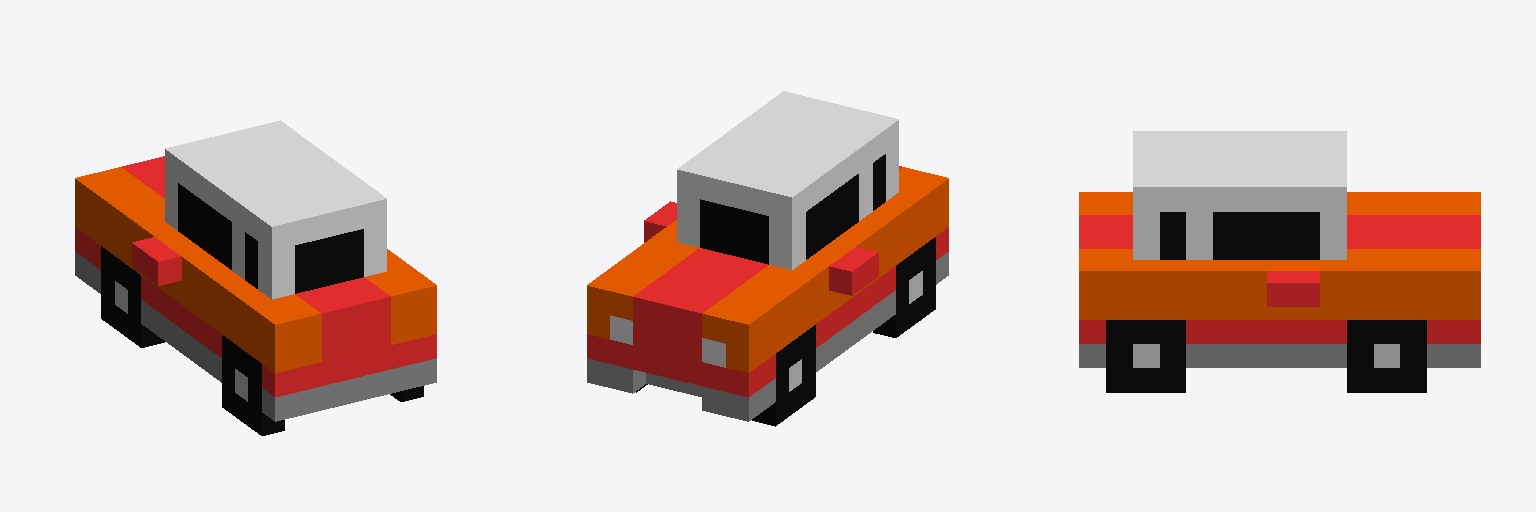
3 renders of one model, left to right at view 1: azimuth 30°, elevation 25°; view 2: azimuth 150°, elevation 25°; view 3: azimuth 270°, elevation 25°, orthographic.
Visible parts, largest first — view 1: OrangeCar; view 2: OrangeCar; view 3: OrangeCar.
Part boxes in pixels (x1,y1,x2,y2): OrangeCar: (75,120,436,435); OrangeCar: (587,91,948,426); OrangeCar: (1079,131,1480,392).
Size of the model in its own units: 9 by 8 by 15.
Materials: 1 (1 with a texture image).